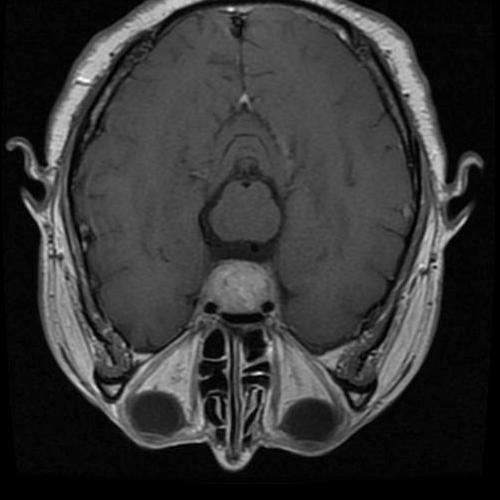Tumour-Pituitary: (190, 257, 289, 324)
